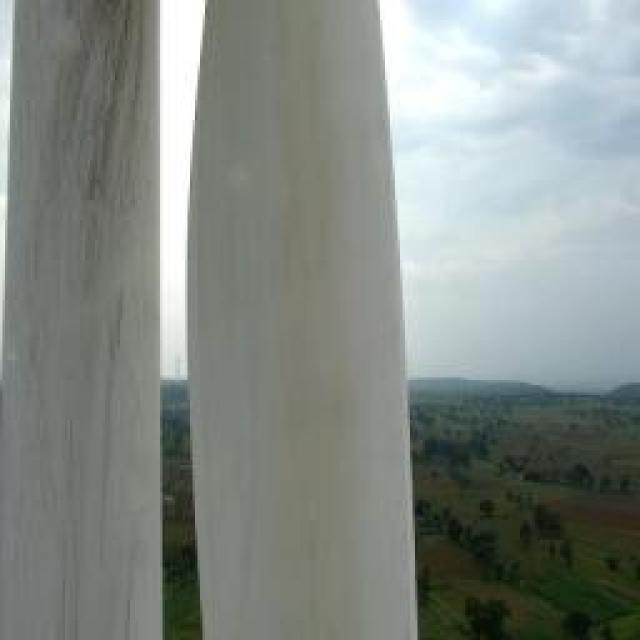Dirt: (181, 0, 374, 639), (0, 0, 166, 635)
